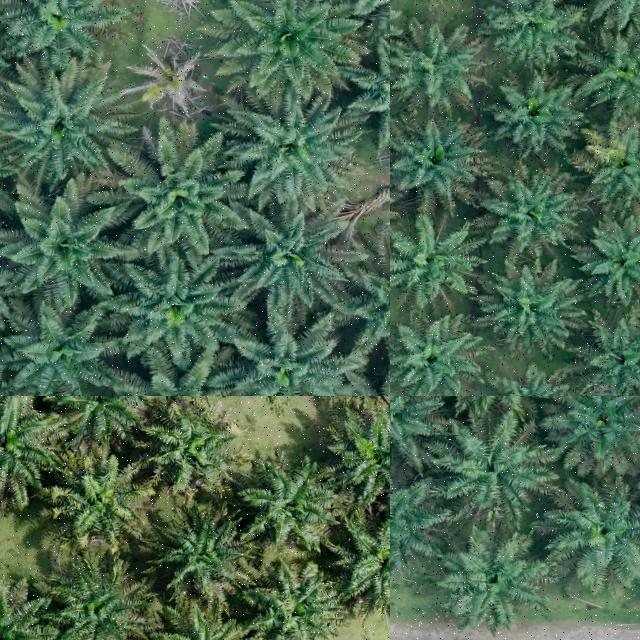Ganoderma: (143, 54, 199, 101)
